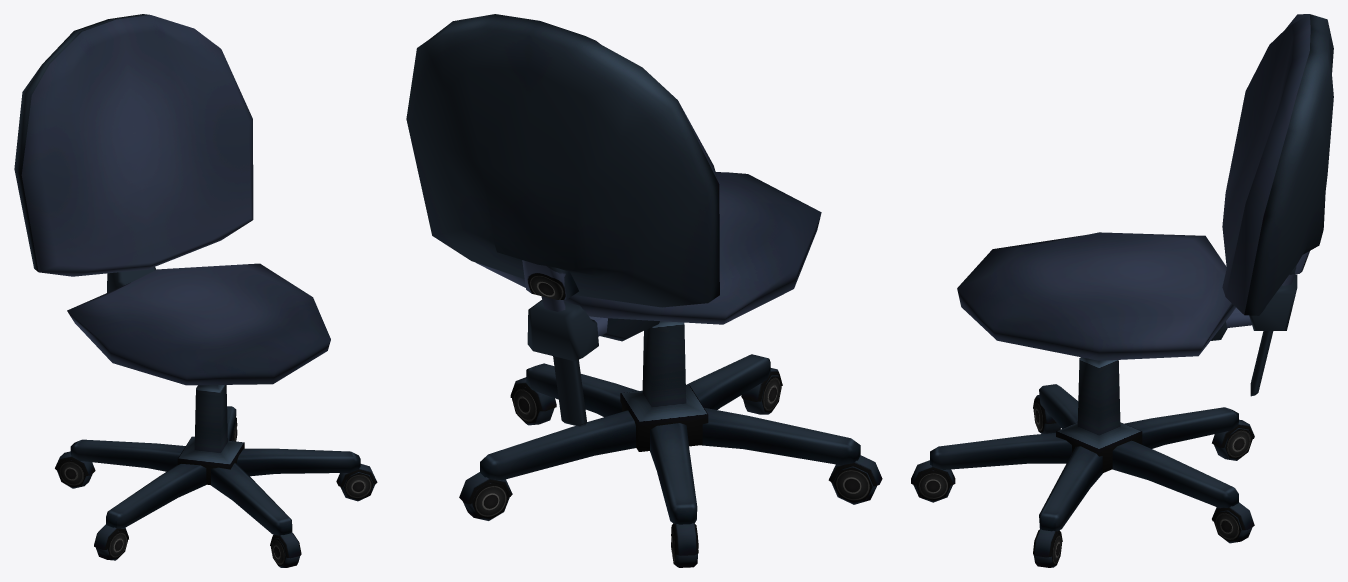
File: Chair.fbx
3 renders of one model, left to right at view 1: azimuth 30°, elevation 25°; view 2: azimuth 150°, elevation 25°; view 3: azimuth 270°, elevation 25°, orthographic. The views are drawn at different scales.
Parts seen in each view (by area): view 1: polySurface44; view 2: polySurface44; view 3: polySurface44.
Boxes of the visible parts, <box> form: polySurface44: <box>14,14,377,567</box>; polySurface44: <box>406,14,882,567</box>; polySurface44: <box>911,14,1333,567</box>.
Bounding box in the file's own units: 1.27 × 1.83 × 1.49.
